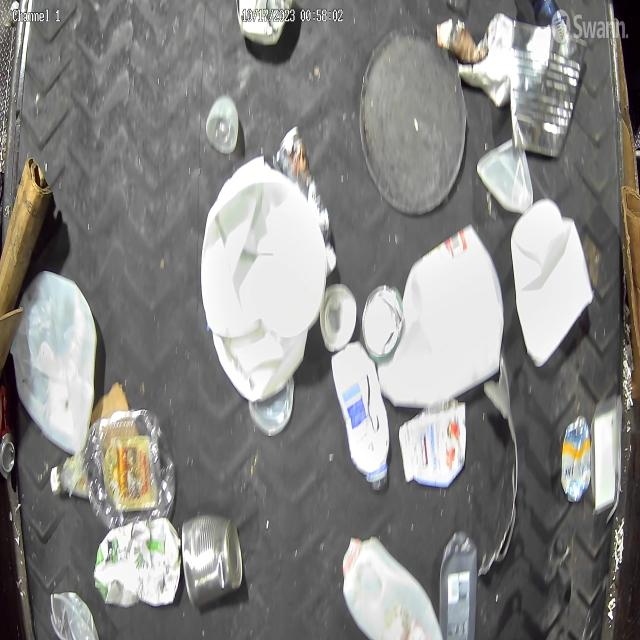can: (511, 21, 586, 160), (182, 513, 245, 609), (362, 283, 404, 358), (561, 414, 594, 505), (320, 282, 356, 352), (0, 388, 15, 476)
milk_jug: (201, 156, 326, 338), (386, 223, 506, 406), (16, 266, 99, 450), (512, 196, 594, 370), (341, 536, 445, 640)
non_white_jug: (94, 516, 182, 607), (398, 400, 466, 488)
plastic_bottle: (53, 408, 178, 525), (439, 530, 478, 640)
